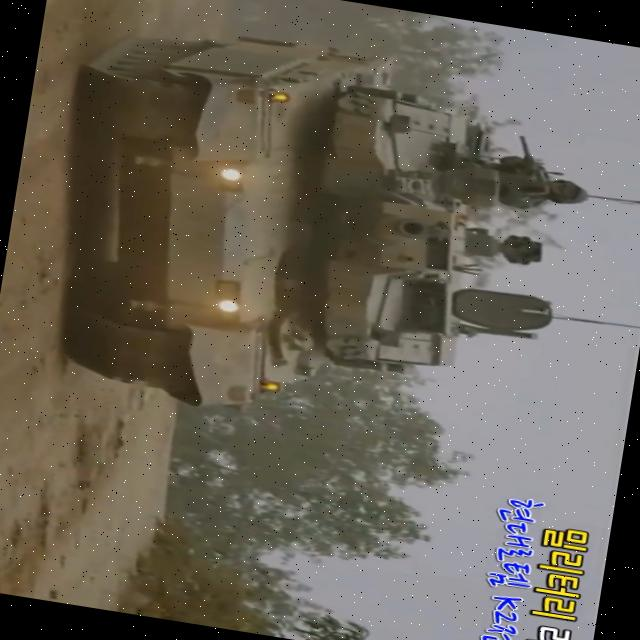korea tank: (34, 5, 604, 461)
